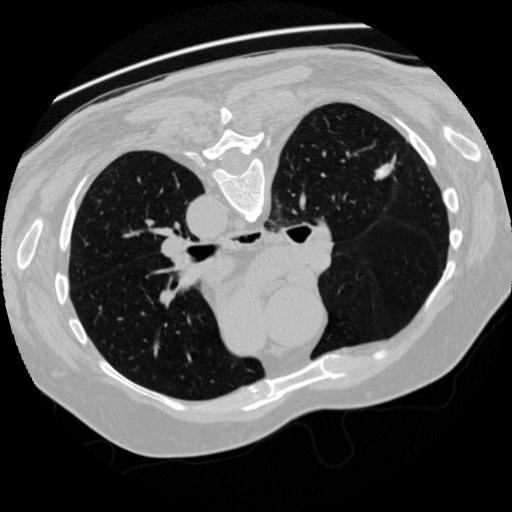nodule: (373, 161, 398, 186)
